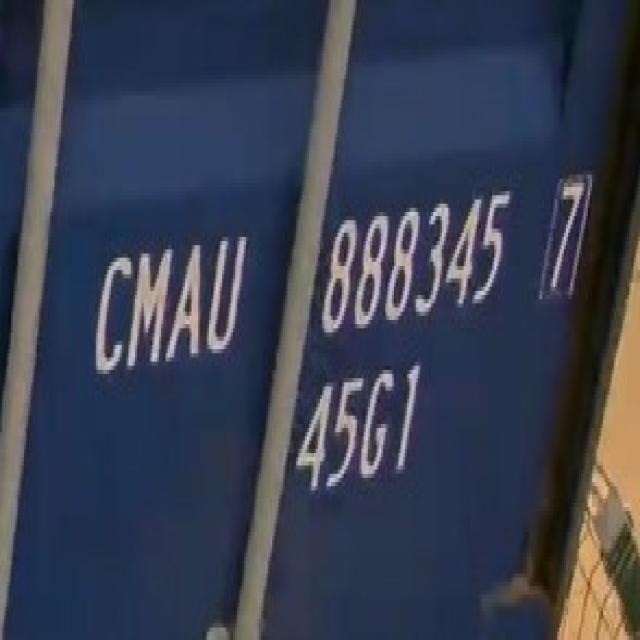dv: (538, 160, 589, 310)
owner: (86, 218, 247, 378)
serial: (316, 186, 512, 344)
size: (287, 350, 423, 508)
